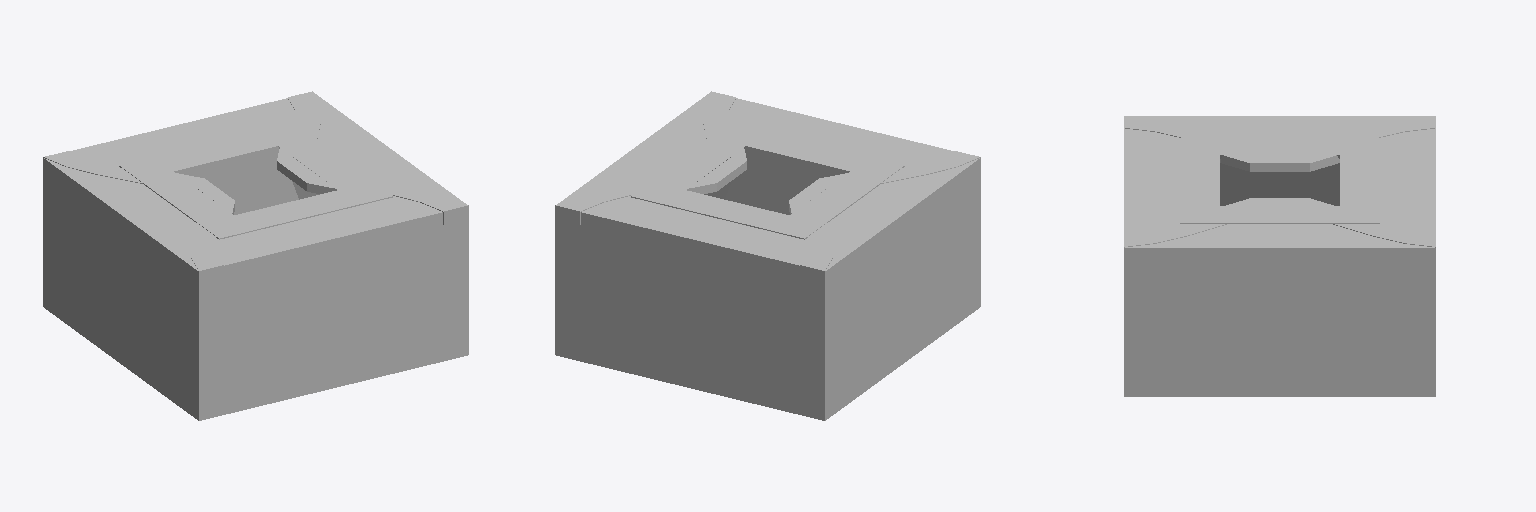
The model's file is platform_outerpart.OBJ.
3 renders of one model, left to right at view 1: azimuth 30°, elevation 25°; view 2: azimuth 150°, elevation 25°; view 3: azimuth 270°, elevation 25°, orthographic.
Visible parts, largest first — view 1: Group11458, Group22938, Group49985, Group11492; view 2: Group11458, Group22938, Group49985, Group11492; view 3: Group11458, Group22938, Group49985, Group11492.
Part boxes in pixels (x1,y1,x2,y2): Group11458: (43, 92, 468, 420); Group22938: (277, 91, 468, 224); Group49985: (43, 151, 223, 284); Group11492: (177, 173, 234, 214); Group11458: (555, 92, 980, 420); Group22938: (555, 91, 746, 224); Group49985: (800, 151, 980, 284); Group11492: (789, 173, 846, 214); Group11458: (1124, 116, 1435, 396); Group22938: (1124, 198, 1435, 247); Group49985: (1124, 116, 1435, 137); Group11492: (1220, 155, 1339, 171).
Size of the model in its own units: 80.94 by 43.12 by 81.